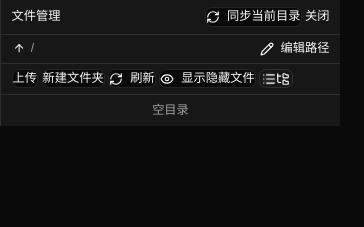
FilePanel SFTP views › surfaces mkdir failures panel-owned without toast
Click the button "新建文件夹". click: (73, 79)
box: [42, 69, 105, 88]
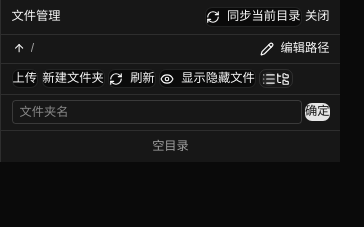
Type "logs" into the field with placeholder "文件夹名". click: (156, 112)
box: [12, 100, 302, 124]
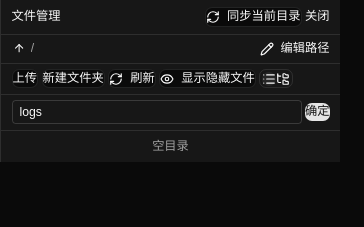
Click the button "确定". click: (317, 112)
box: [305, 103, 330, 121]
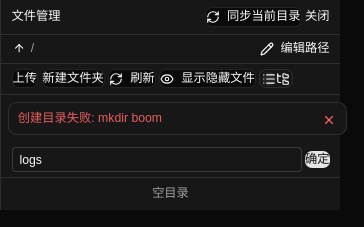
Check: the text "创建目录失败: mkdir boom" is shown, box [18, 110, 162, 124]
